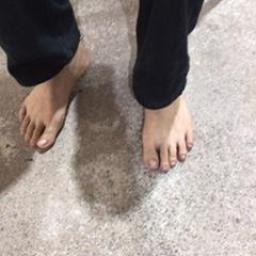Dorsal View -Both Feet-: (10, 36, 202, 191)
